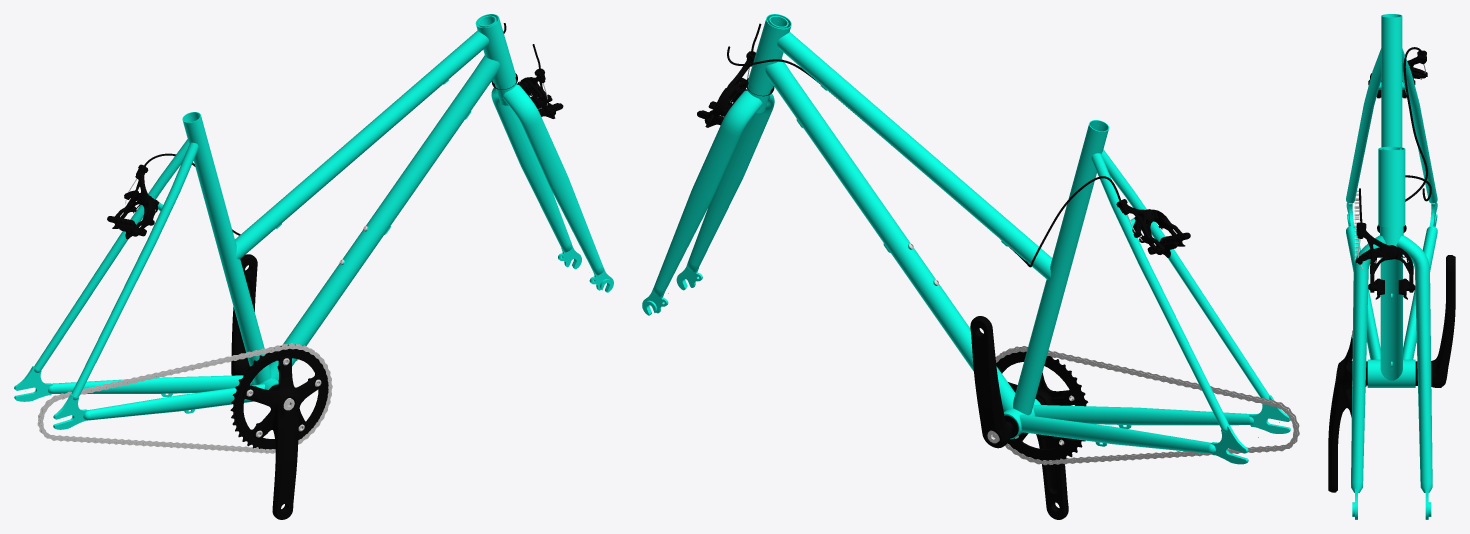
Rendered from Mango_Moosher_Frame.glb.
3 views of the same model, side by side, from view 1: azimuth 30°, elevation 25°; view 2: azimuth 150°, elevation 25°; view 3: azimuth 270°, elevation 25° (orthographic). The views are drawn at different scales.
Visible parts, largest first — view 1: no_transformations (×7); view 2: no_transformations (×8); view 3: no_transformations (×7).
Part boxes in pixels (x1,y1,x2,y2): no_transformations (×7): (14, 14, 613, 519); no_transformations (×8): (642, 14, 1299, 519); no_transformations (×7): (1328, 14, 1455, 519).
Bounding box in the file's own units: 1039 × 736 × 180.
